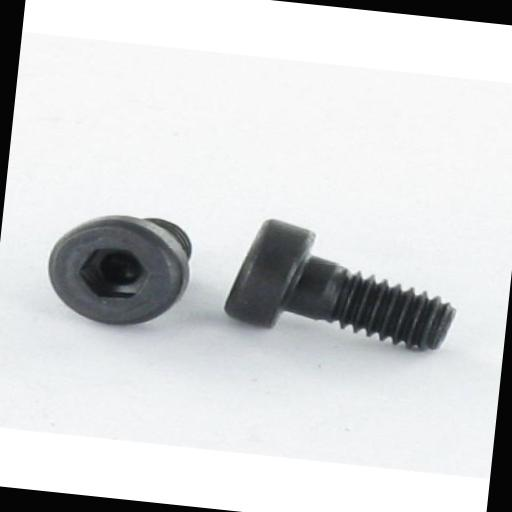Hex-Allen: (46, 208, 190, 338)
